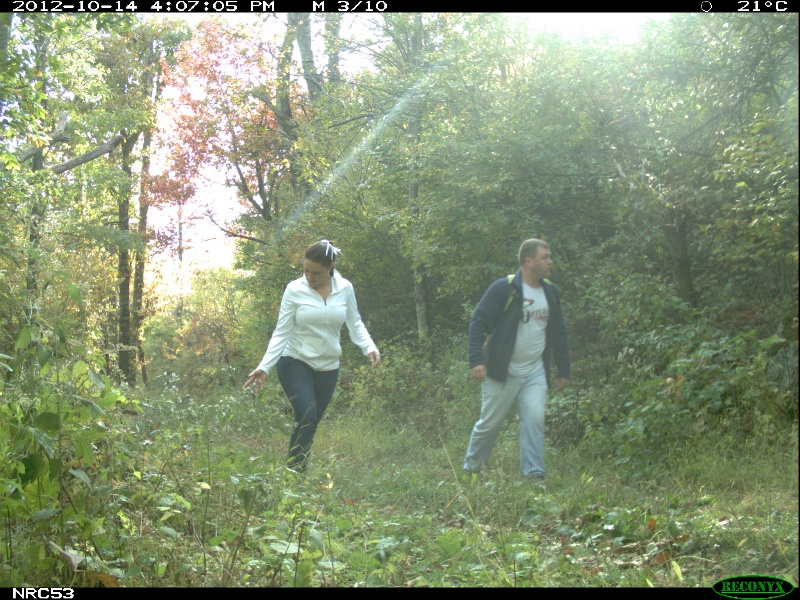human: (240, 238, 387, 488), (458, 234, 573, 491)
human face: (519, 239, 553, 280), (304, 255, 335, 292)
human legs: (464, 367, 562, 492), (270, 355, 351, 492)
